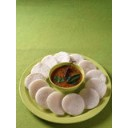idly: (62, 92, 85, 115), (84, 77, 106, 99), (48, 90, 66, 115), (34, 85, 53, 108), (80, 89, 98, 108), (32, 62, 50, 77), (24, 74, 45, 86), (80, 59, 95, 71)
